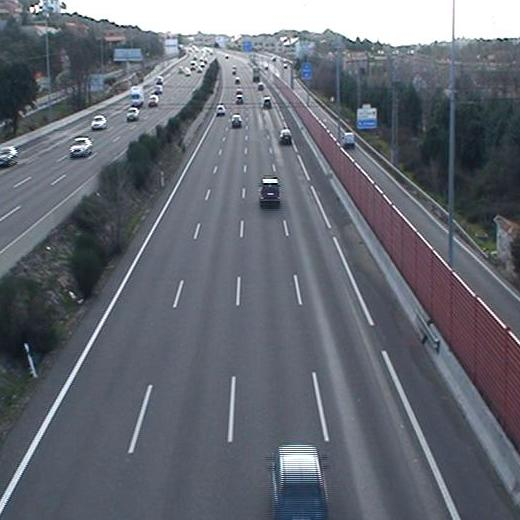car: (264, 440, 337, 520), (255, 175, 283, 211), (229, 113, 244, 130), (278, 128, 292, 145), (260, 96, 275, 111), (214, 104, 228, 119), (234, 93, 245, 105)
